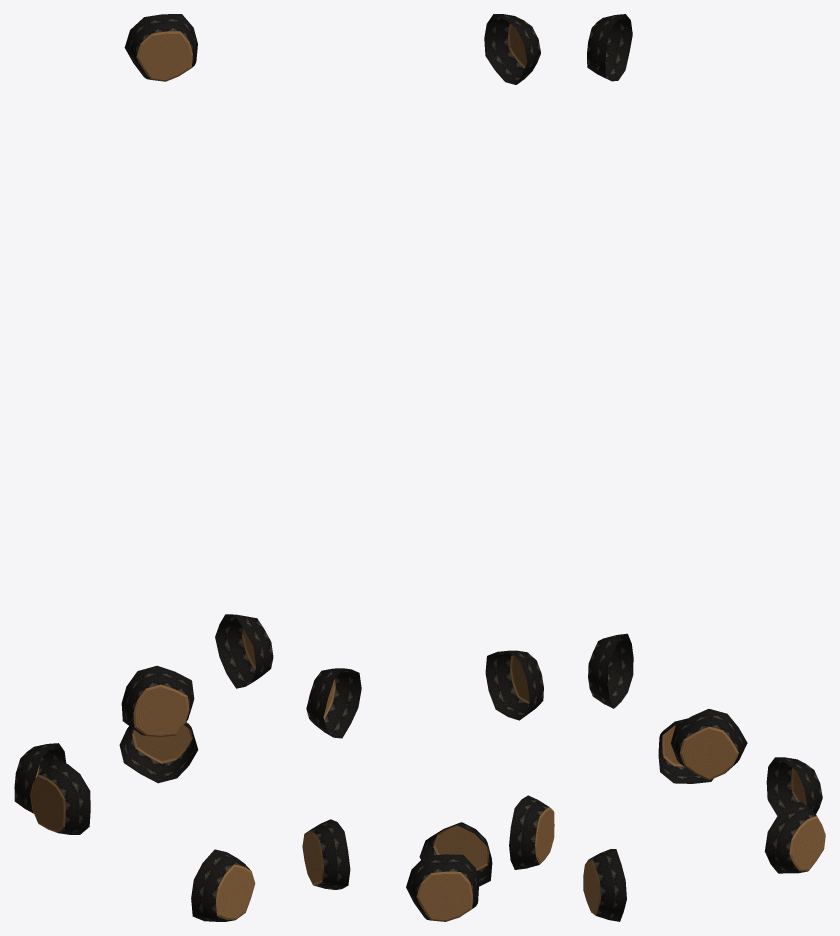
The model's file is Sitka_Young_02_LowPruned_Recent_LOD1.fbx.
3 renders of one model, left to right at view 1: azimuth 30°, elevation 25°; view 2: azimuth 150°, elevation 25°; view 3: azimuth 270°, elevation 25°, orthographic. The views are drawn at different scales.
Visible parts, largest first — view 1: Sitka_Young_02_LowPruned_Recent_LOD1_Scars; view 2: Sitka_Young_02_LowPruned_Recent_LOD1_Scars; view 3: Sitka_Young_02_LowPruned_Recent_LOD1_Scars.
Boxes of the visible parts, box(x1,y1,x2,y2) form: Sitka_Young_02_LowPruned_Recent_LOD1_Scars: box(14, 14, 273, 921); Sitka_Young_02_LowPruned_Recent_LOD1_Scars: box(302, 14, 554, 921); Sitka_Young_02_LowPruned_Recent_LOD1_Scars: box(583, 14, 825, 921).
Size of what is drawn, in the model's own units: 18.94 by 73.52 by 18.49.
Materials: 2 (2 with a texture image).
